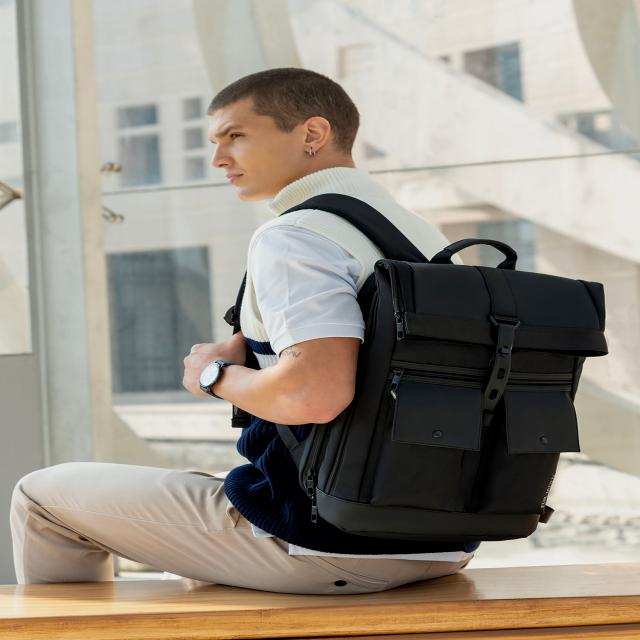backpack: (228, 193, 610, 545)
